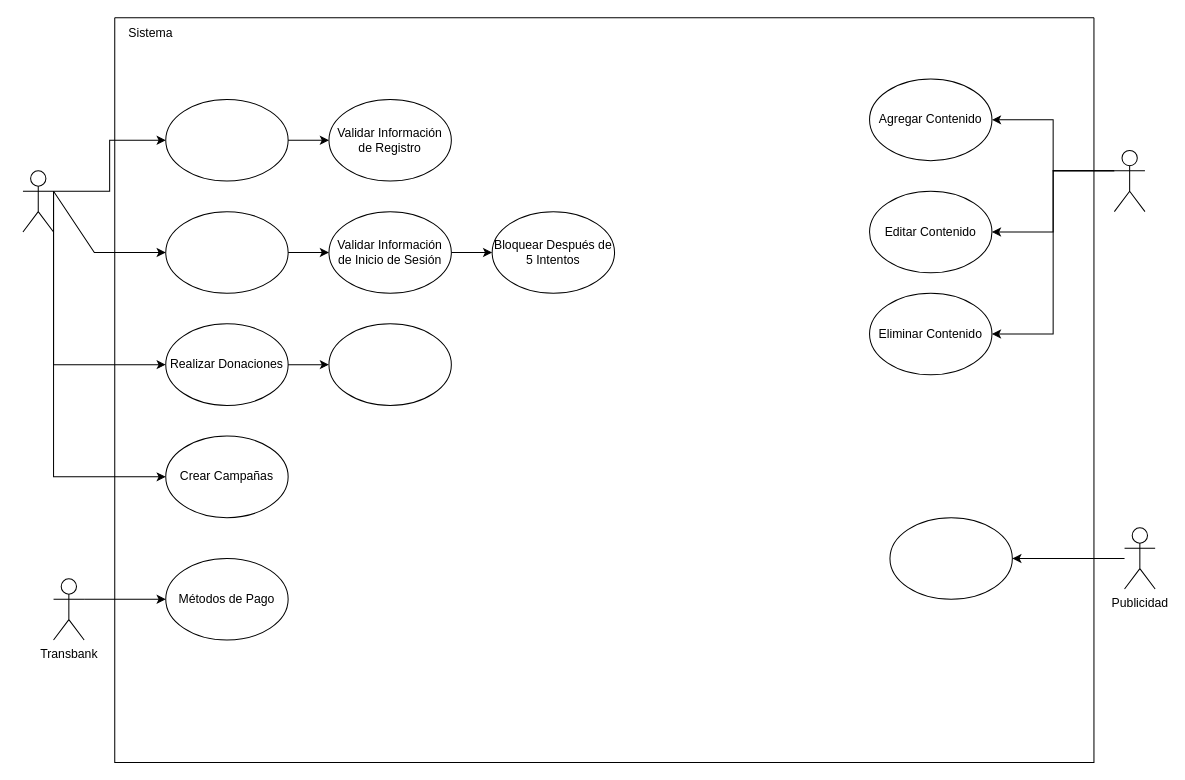
This 1185x780 diagram has some shape labels left out. Each missing label, with the centre of its shape:
"Administrador" goes at pixel 1129 180.
"Inicio de Sesión" goes at pixel 226 252.
"Mostrar Publicidad" goes at pixel 950 558.
"Registrar Usuario" goes at pixel 226 139.
"Registro de Donación" goes at pixel 389 364.
"Usuario" goes at pixel 38 201.
